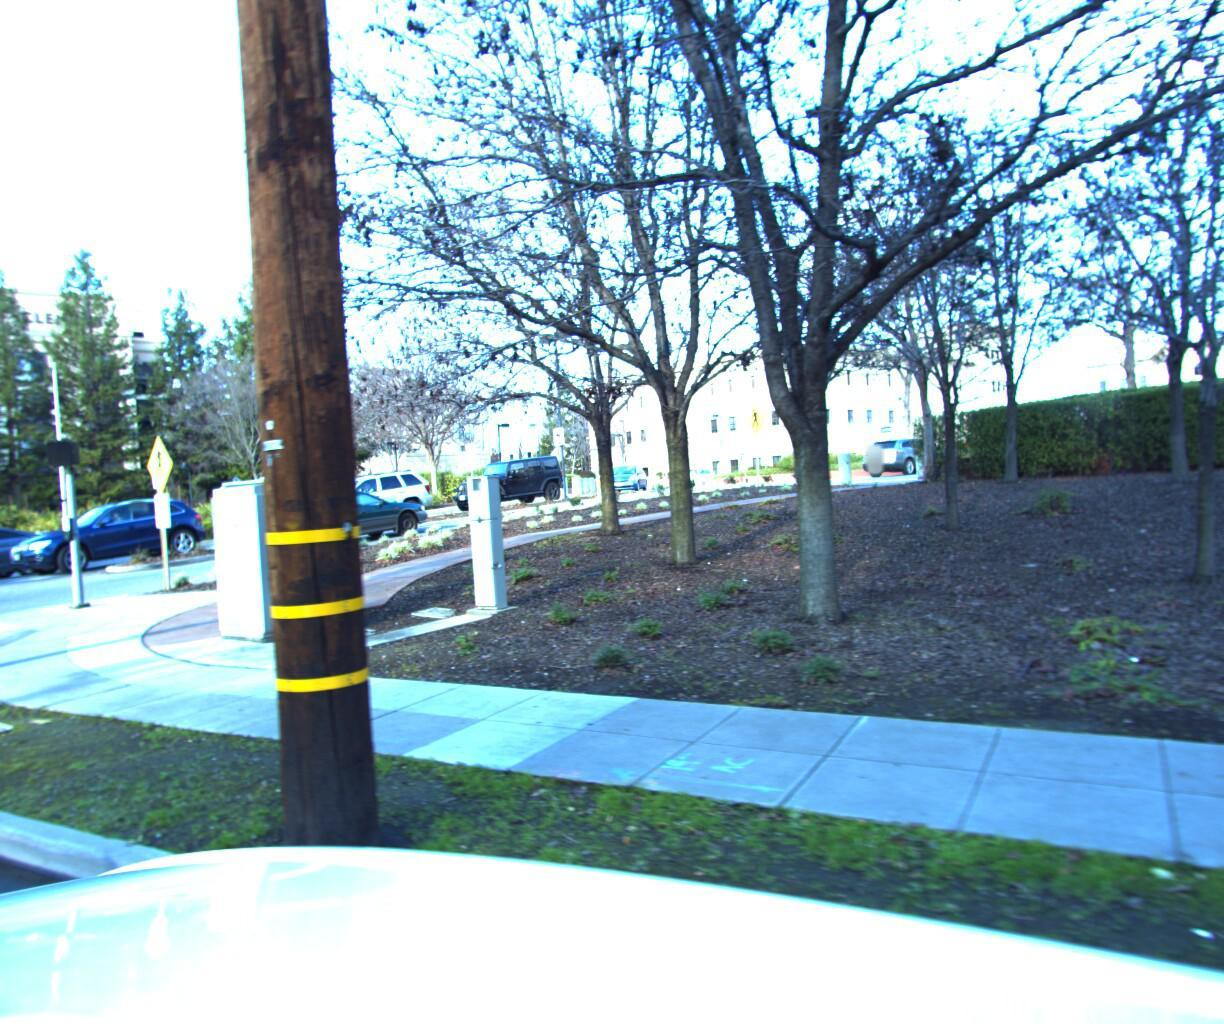car: (261, 475, 437, 546), (277, 461, 444, 534), (442, 450, 571, 508), (856, 434, 953, 473), (599, 458, 649, 488), (672, 459, 714, 480)
